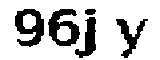6: (47, 7, 79, 49)
9: (11, 6, 46, 50)
j: (79, 7, 106, 60)
y: (113, 14, 150, 60)
